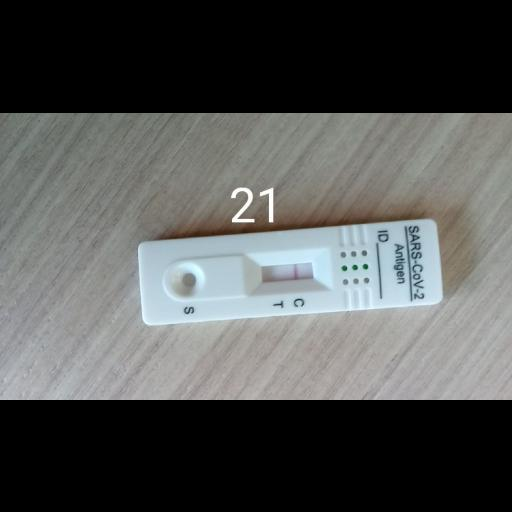Neg: (137, 217, 445, 326)
